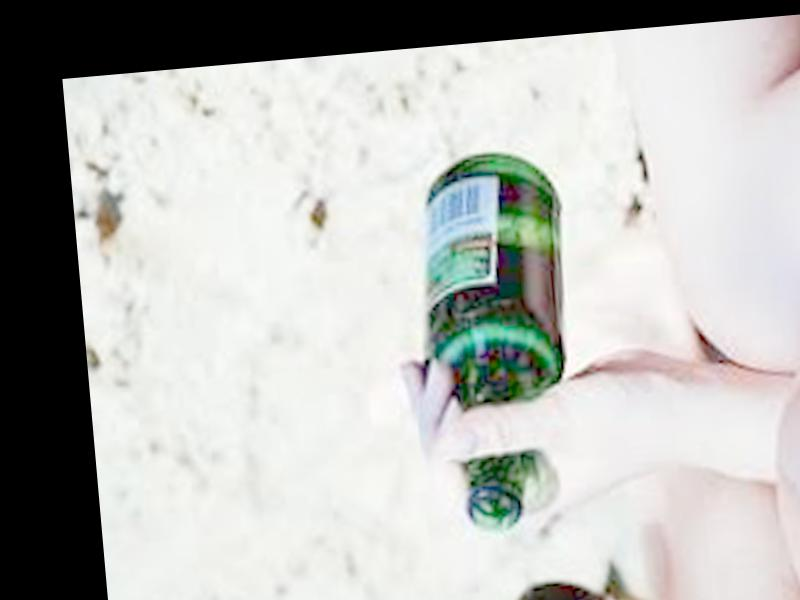Beer: (410, 147, 590, 538)
